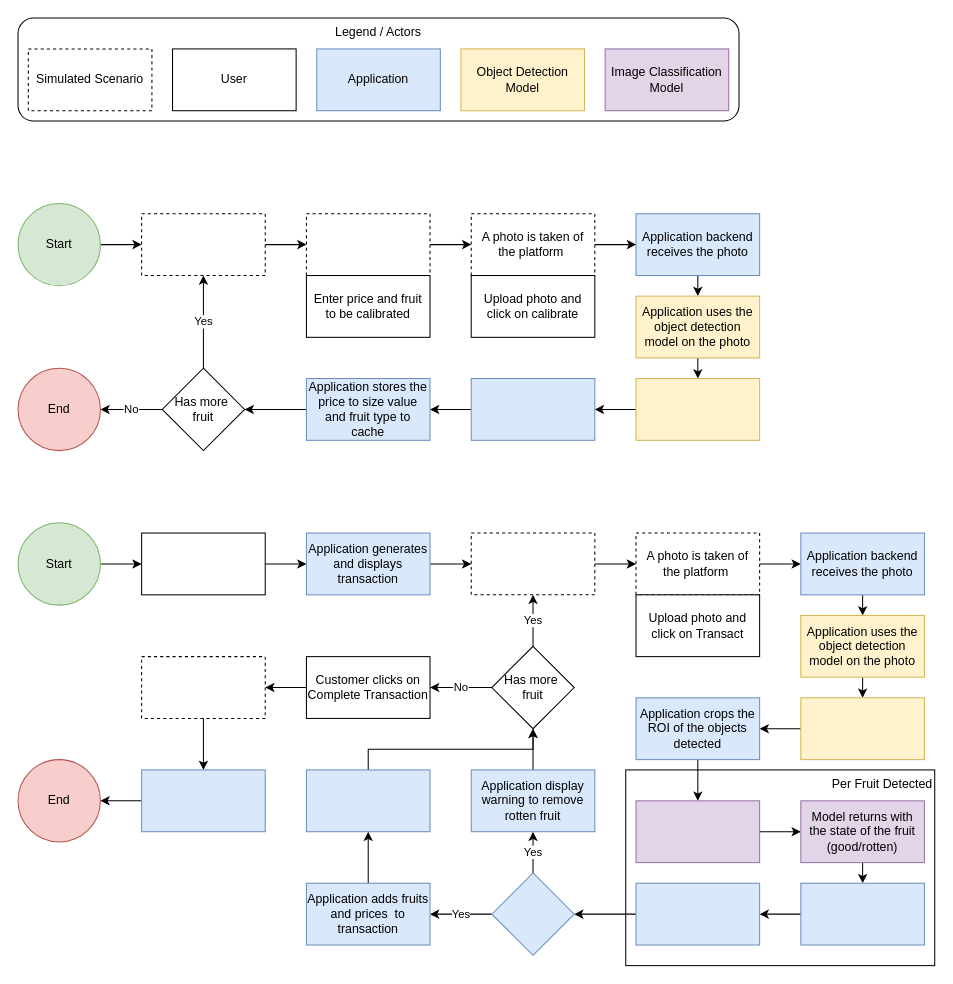
The diagram is 953 pixels wide and 984 high, and some of its shapes have lost their labels. Each missing label, with the centre of its shape:
"Application adds fruit and value to a temporary list" goes at (x=697, y=913).
"Application calculates price of fruit based on calibrated price to size value" goes at (x=862, y=913).
"Application completes transaction" goes at (x=203, y=800).
"Application updates transaction" goes at (x=367, y=800).
"Application uses image classification model on the cropped ROI" goes at (x=697, y=831).
"Based on the size of the ROI, a price to fruit size value is calculated" goes at (x=532, y=408).
"Customer completes payment" goes at (x=203, y=687).
"Customer places fruits to be transacted on platform and click on Transact" goes at (x=532, y=563).
"Customer starts a transaction" goes at (x=203, y=563).
"Employee enters fruit to calibrate price and click on Calibrate" goes at (x=367, y=244).
"Employee places fruit to be calibrated on platform" goes at (x=203, y=244).
"Has rotten fruit" goes at (x=532, y=913).
"Model returns with the fruit type and ROI of the object" goes at (x=697, y=408).
"Model returns with the fruit type and ROI of the objects" goes at (x=862, y=728).
